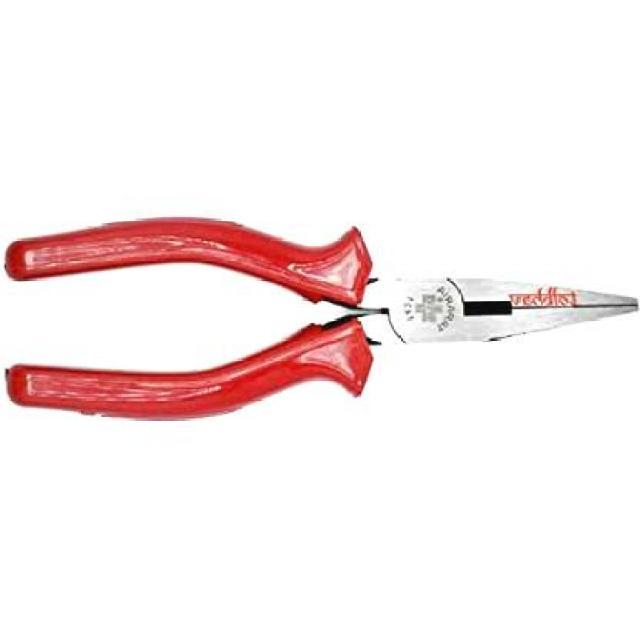pliers: (3, 209, 639, 420)
